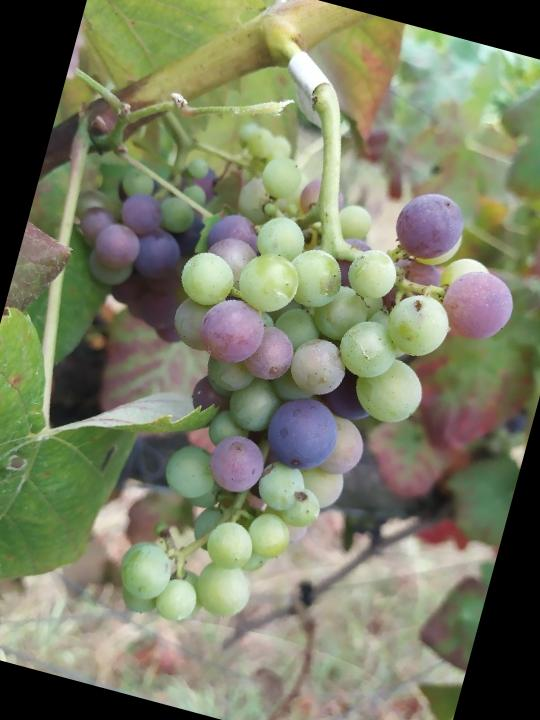grape: (90, 131, 539, 689)
